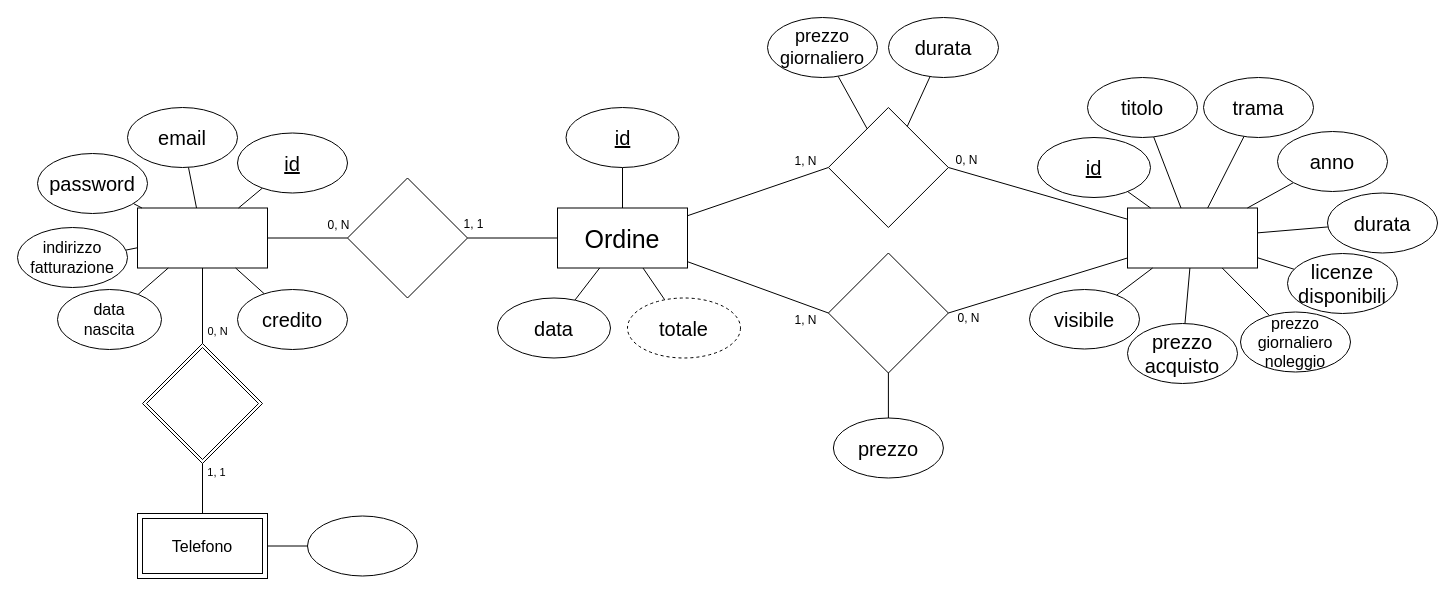
Image size: 1455x596. Some labels were removed from this diagram. Here are the shapes that lost their labels. From the top down, the centre of each, then its label:
point 887,167: Noleggio
point 202,237: Utente
point 407,237: Effettua
point 1192,237: Film
point 887,312: Acquisto
point 202,403: Possiede
point 362,545: numero
